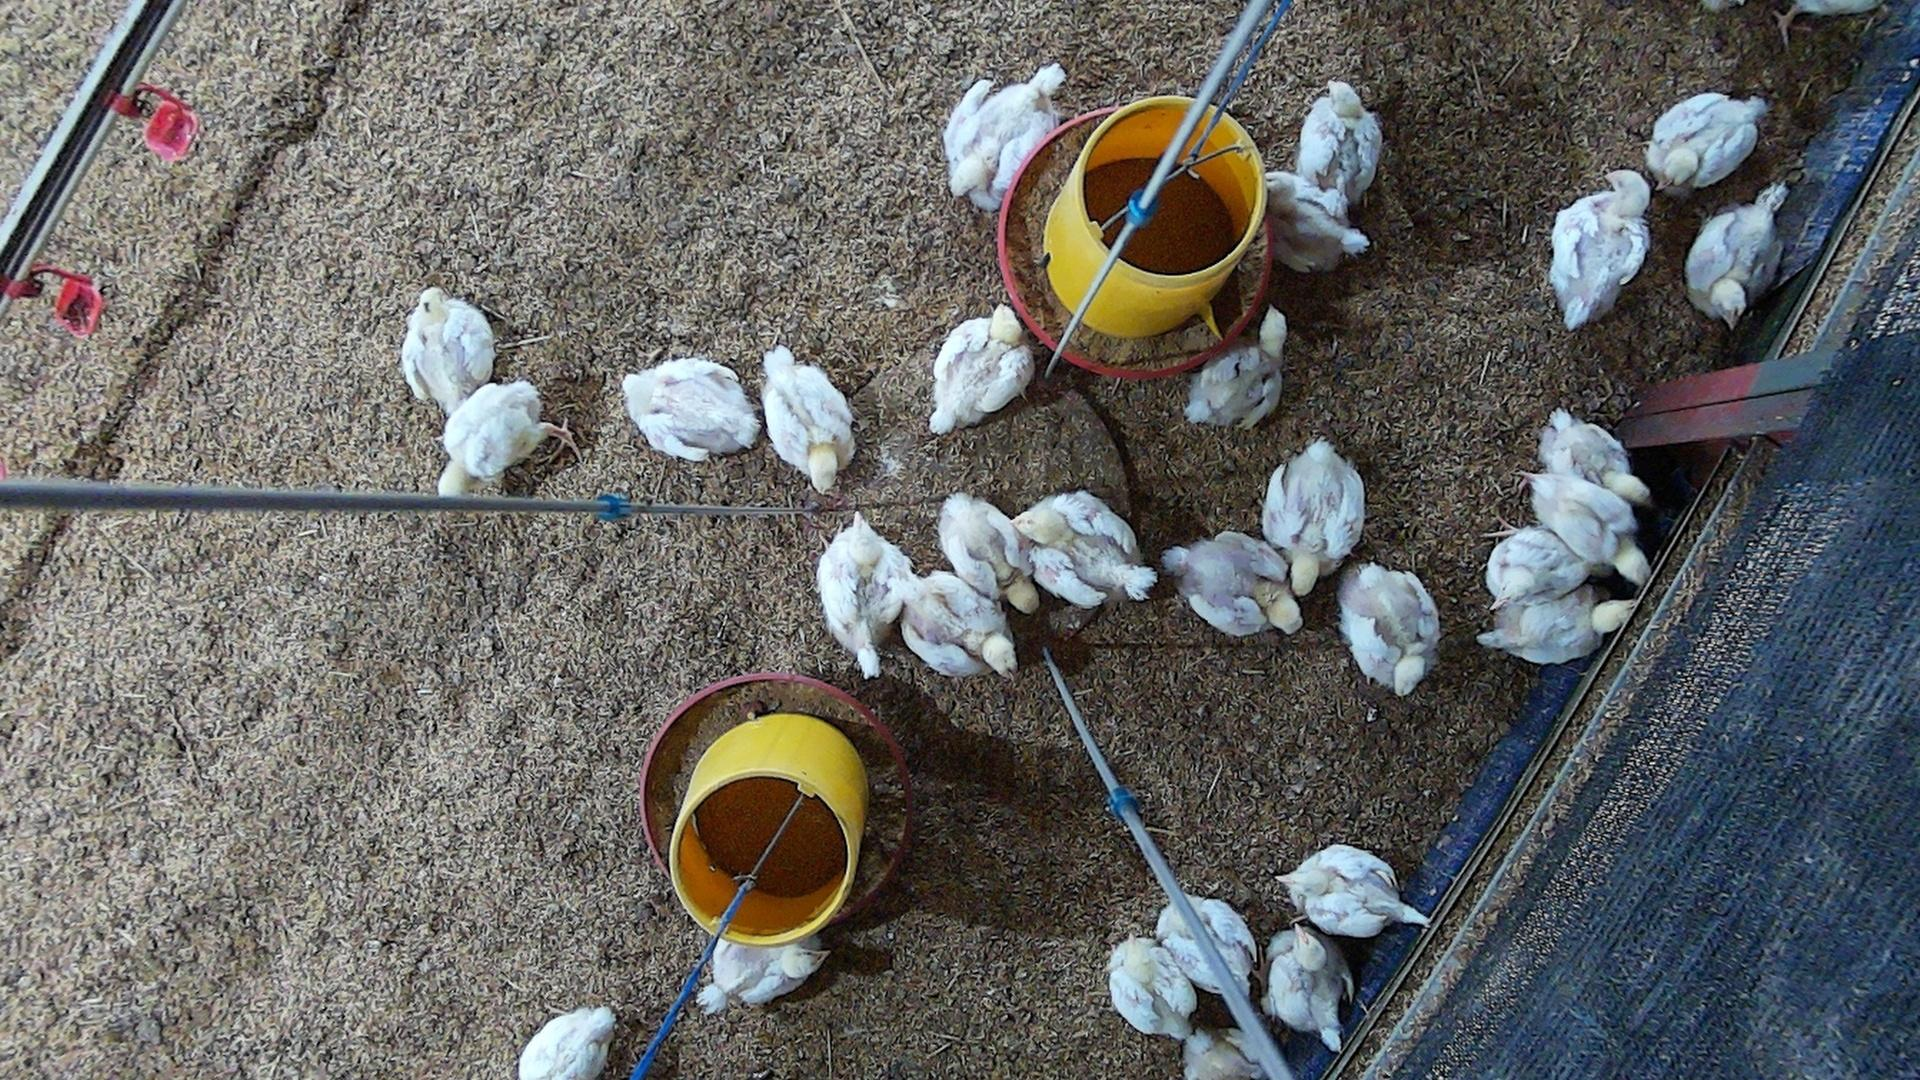ayam_broiler: (945, 66, 1063, 214), (1014, 492, 1159, 608), (818, 513, 918, 676), (1262, 439, 1366, 596), (1549, 169, 1650, 328), (1162, 531, 1302, 637), (620, 355, 758, 460), (1278, 844, 1425, 938), (761, 348, 855, 495), (1685, 186, 1782, 326), (1154, 897, 1265, 1018), (931, 305, 1033, 434), (1340, 566, 1440, 696), (1480, 584, 1639, 666), (439, 382, 546, 500), (1185, 306, 1287, 429), (1532, 476, 1648, 583), (1646, 94, 1764, 196), (901, 572, 1015, 678), (404, 289, 495, 417), (938, 495, 1036, 611), (1296, 80, 1383, 207), (1261, 169, 1369, 269), (1540, 410, 1650, 505), (1263, 927, 1345, 1051), (700, 935, 827, 1013), (1109, 936, 1196, 1039), (1487, 529, 1602, 607), (517, 1007, 615, 1080), (1184, 1027, 1290, 1080)
